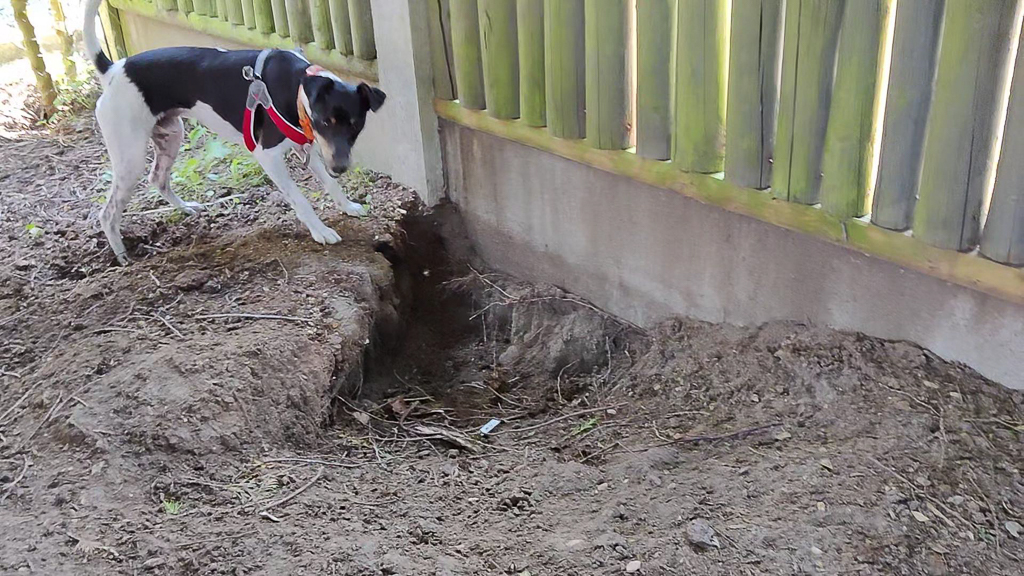Dog: (76, 0, 406, 289)
